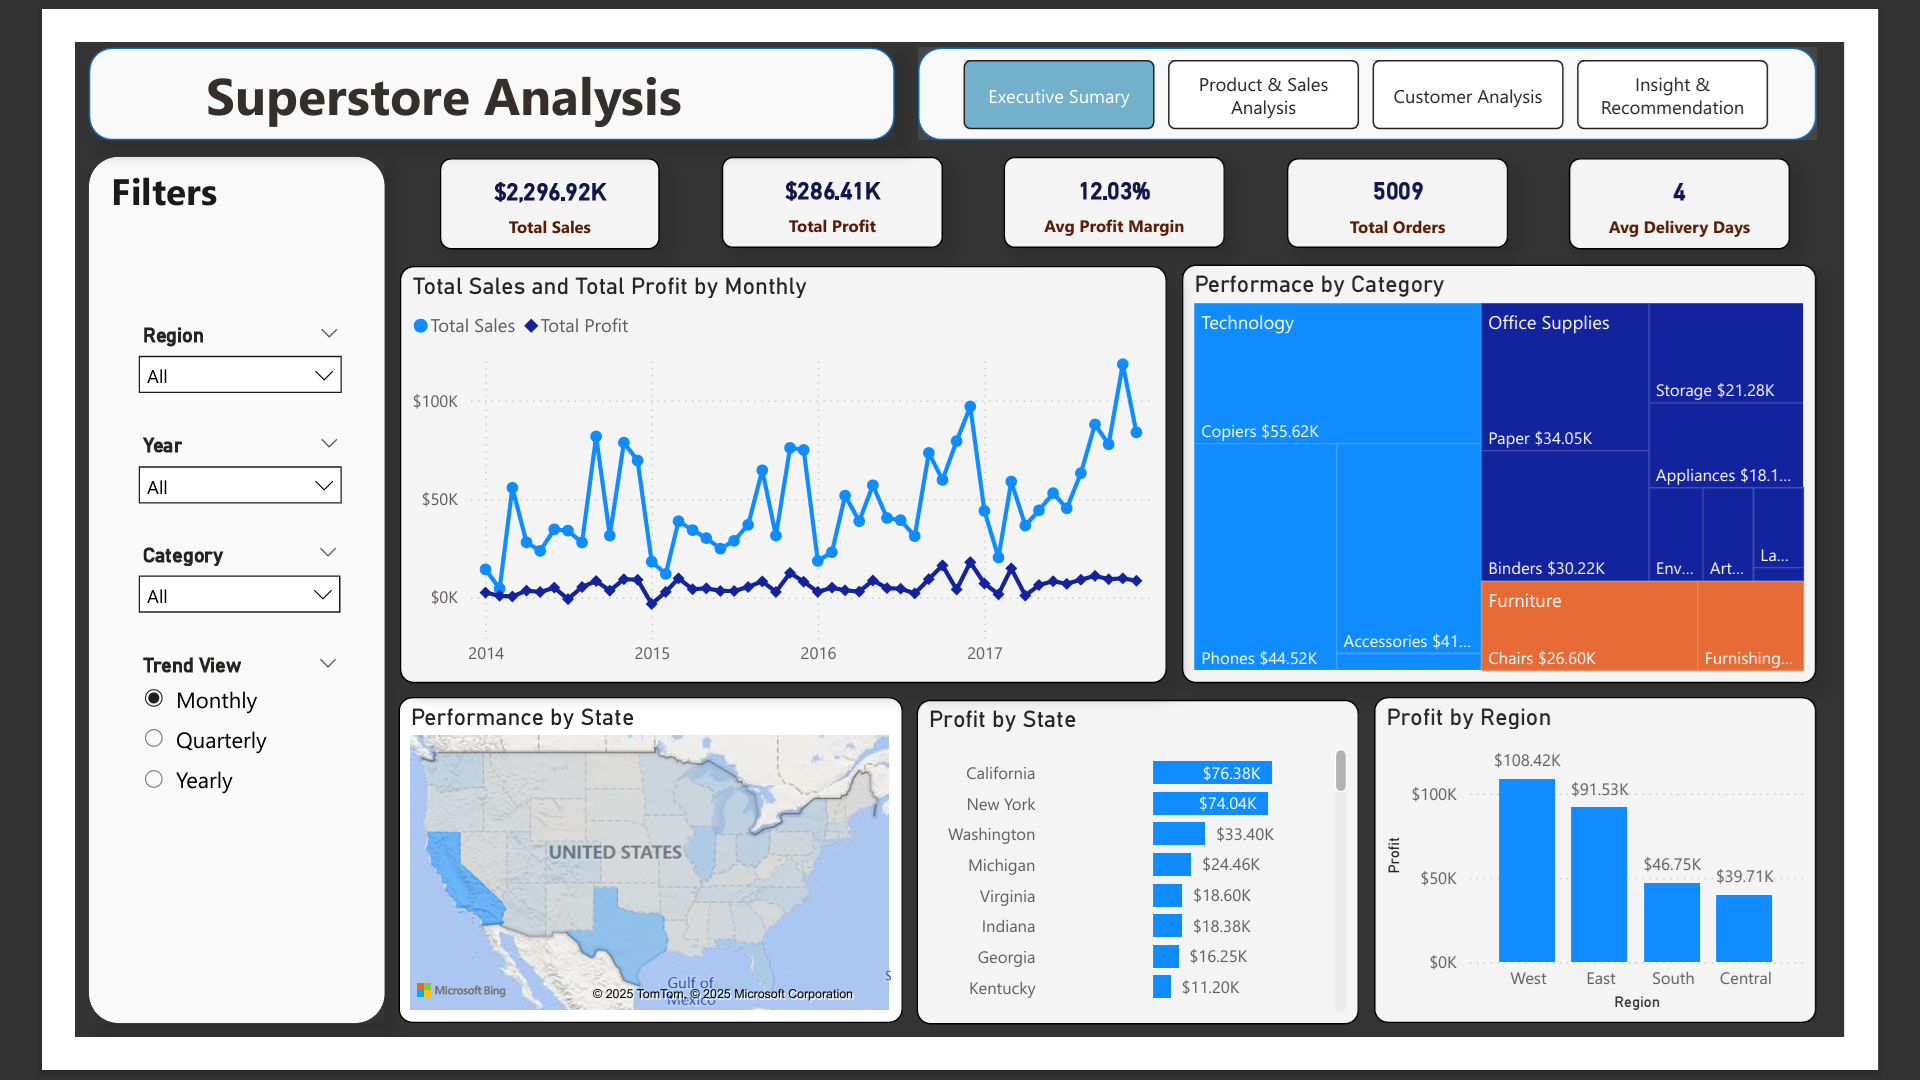

What the dashboard file says about the page in this screenshot:
{"tool":"powerbi","page":{"name":"Executive Sumary","canvas":[1280,720],"ordinal":0},"visuals":[{"type":"card","fields":{"Values":["public fact_order.Total Sales"]},"box":[264.3,83.9,158.6,65.7],"z":0},{"type":"card","fields":{"Values":["public fact_order.Total Profit"]},"box":[467.5,82.8,160,65.7],"z":1000},{"type":"card","fields":{"Values":["public fact_order.Avg Profit Margin"]},"box":[672.1,83.1,160,65.7],"z":2000},{"type":"card","fields":{"Values":["public fact_order.Total Orders"]},"box":[876.8,83.5,160,65.7],"z":3000},{"type":"card","fields":{"Values":["public fact_order.Avg Delivery Days"]},"box":[1081.4,84.2,160,65.7],"z":4000},{"type":"treemap","title":"Performace by Category","fields":{"Group":["public dim_product.category"],"Details":["public dim_product.sub_category"],"Values":["Calcs.Total Profit"]},"box":[801.4,161.4,458.6,302.9],"z":5000},{"type":"shape","box":[10,82.9,214.3,627.1],"z":6000},{"type":"slicer","fields":{"Values":["public dim_date.order_date.Variation.Date Hierarchy.Year"]},"box":[35.7,278.6,167.4,62],"z":7000},{"type":"slicer","fields":{"Values":["public dim_location.region"]},"box":[35.7,198.6,167.1,62.9],"z":8000},{"type":"shape","box":[10,4.3,582.9,67.1],"z":9000},{"type":"shape","box":[610,4.3,650,67.1],"z":10000},{"type":"pageNavigator","box":[642.9,12.9,585.7,50],"z":11000},{"type":"slicer","fields":{"Values":["Trend Parameter.Trend Parameter"]},"box":[35.7,437.5,166.2,122.5],"z":12000},{"type":"clusteredColumnChart","title":"Profit by Region","fields":{"Category":["public dim_location.region"],"Y":["Calcs.Total Profit"]},"box":[940,474.3,320,235.7],"z":13000},{"type":"clusteredBarChart","title":"Profit by State","fields":{"Y":["Calcs.Total Profit"],"Category":["public dim_location.state"]},"box":[609.3,475.7,320,235.7],"z":14000},{"type":"filledMap","title":"Performance by State","fields":{"Category":["public dim_location.state"]},"box":[234.3,474.3,364.3,235.7],"z":15000},{"type":"lineChart","fields":{"Category":["public dim_date.Monthly Dates"],"Y":["Calcs.Total Sales","Calcs.Total Profit"]},"box":[234.6,161.9,555.7,301.9],"z":17000},{"type":"slicer","fields":{"Values":["public dim_product.category"]},"box":[35.7,357.8,166.2,62.5],"z":17001}]}

Visuals, with their boxes in screenshot pixels (x1, y1, x2, y2), scaled from the page's 1280x720 canvas onto the 1920x1080 screenshot:
card - public fact_order.Total Sales: rect(396, 126, 634, 224)
card - public fact_order.Total Profit: rect(701, 124, 941, 223)
card - public fact_order.Avg Profit Margin: rect(1008, 125, 1248, 223)
card - public fact_order.Total Orders: rect(1315, 125, 1555, 224)
card - public fact_order.Avg Delivery Days: rect(1622, 126, 1862, 225)
"Performace by Category" treemap: rect(1202, 242, 1890, 696)
shape: rect(15, 124, 336, 1065)
slicer - public dim_date.order_date.Variation.Date Hierarchy.Year: rect(54, 418, 305, 511)
slicer - public dim_location.region: rect(54, 298, 304, 392)
shape: rect(15, 6, 889, 107)
shape: rect(915, 6, 1890, 107)
pageNavigator: rect(964, 19, 1843, 94)
slicer - Trend Parameter.Trend Parameter: rect(54, 656, 303, 840)
"Profit by Region" clusteredColumnChart: rect(1410, 711, 1890, 1065)
"Profit by State" clusteredBarChart: rect(914, 714, 1394, 1067)
"Performance by State" filledMap: rect(351, 711, 898, 1065)
lineChart - public dim_date.Monthly Dates x Calcs.Total Sales: rect(352, 243, 1185, 696)
slicer - public dim_product.category: rect(54, 537, 303, 630)
